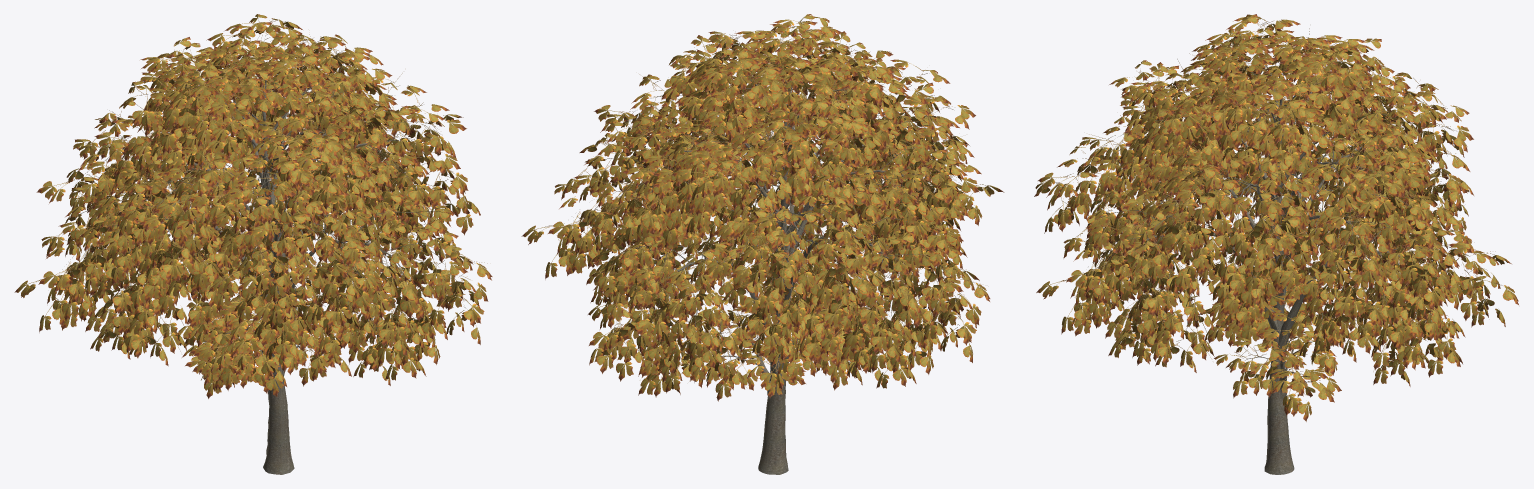
The picture shows the model from 3 angles, left to right: view 1: azimuth 30°, elevation 25°; view 2: azimuth 150°, elevation 25°; view 3: azimuth 270°, elevation 25°; orthographic projection.
Parts seen in each view (by area): view 1: AL05m; view 2: AL05m; view 3: AL05m.
Boxes of the visible parts, x1,y1,x2,y2 form: AL05m: (14, 14, 492, 474); AL05m: (521, 14, 1004, 474); AL05m: (1034, 14, 1518, 474).
Size of the model in its own units: 131 by 132 by 136.
